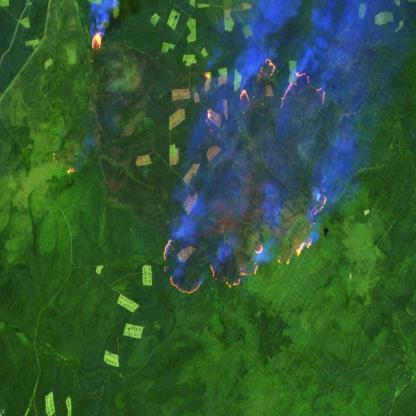fire: (154, 183, 330, 299), (230, 50, 329, 117), (88, 20, 112, 57)
